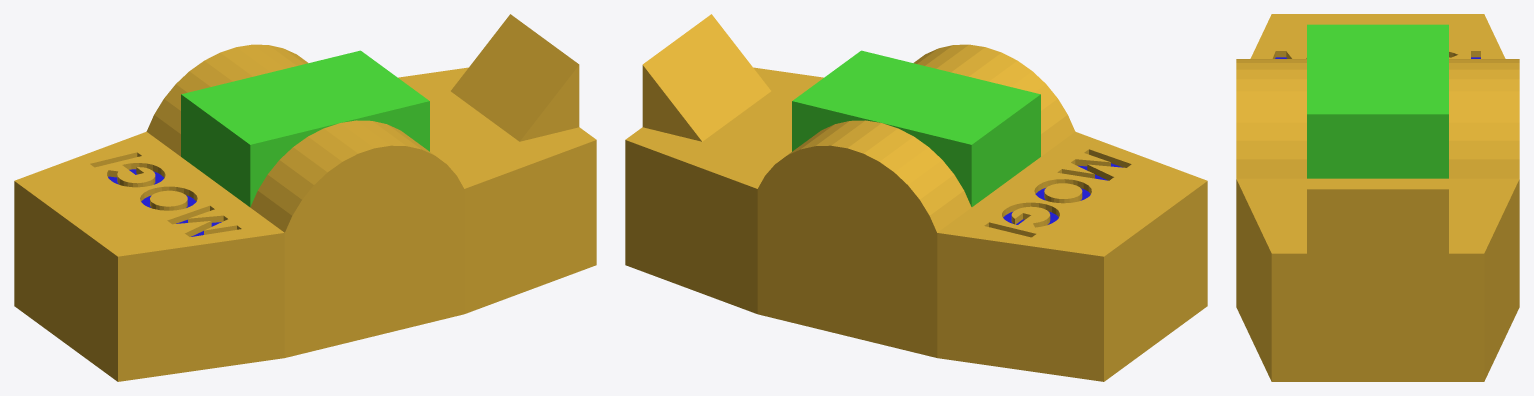
Rendered from mogi_bot.dae.
The picture shows the model from 3 angles, left to right: view 1: azimuth 30°, elevation 25°; view 2: azimuth 150°, elevation 25°; view 3: azimuth 270°, elevation 25°; orthographic projection. The views are drawn at different scales.
Visible parts, largest first — view 1: Mogi Bot; view 2: Mogi Bot; view 3: Mogi Bot.
Boxes of the visible parts, x1,y1,x2,y2 form: Mogi Bot: (14, 14, 596, 381); Mogi Bot: (625, 14, 1207, 381); Mogi Bot: (1236, 14, 1519, 381).
Size of the model in its own units: 0.4 by 0.2 by 0.15.
